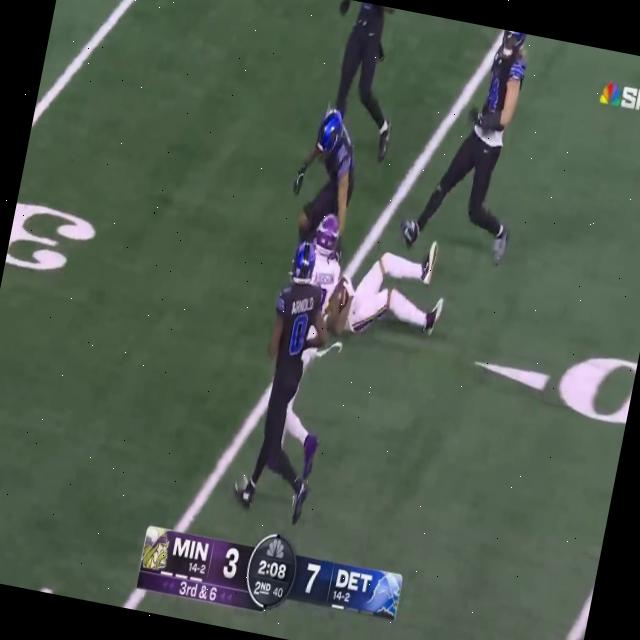Player: (418, 22, 546, 270), (240, 238, 337, 512), (302, 212, 429, 340), (288, 107, 370, 228)
